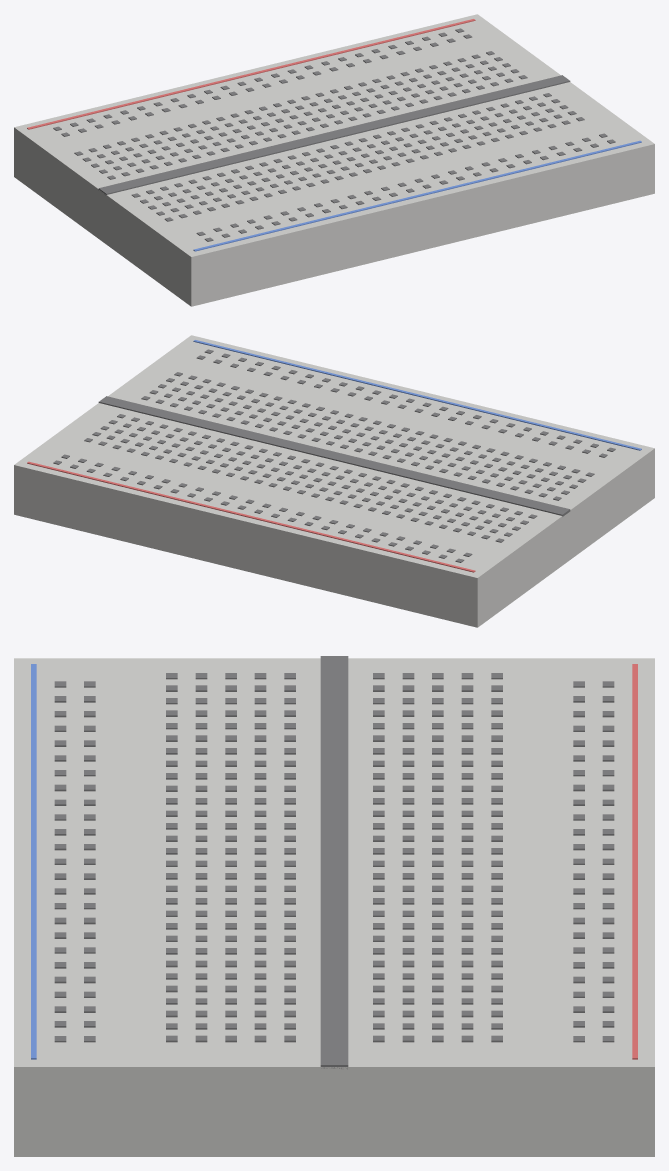
The model's file is breadboard_half.glb.
The picture shows the model from 3 angles, top to bottom: view 1: azimuth 30°, elevation 25°; view 2: azimuth 150°, elevation 25°; view 3: azimuth 270°, elevation 25°; orthographic projection. The views are drawn at different scales.
Parts seen in each view (by area): view 1: breadboard_half_1_bb_white, breadboard_half_2_bb_hole, breadboard_half_103_red_line, breadboard_half_104_blue_line; view 2: breadboard_half_1_bb_white, breadboard_half_2_bb_hole, breadboard_half_104_blue_line, breadboard_half_103_red_line; view 3: breadboard_half_1_bb_white, breadboard_half_2_bb_hole, breadboard_half_103_red_line, breadboard_half_104_blue_line.
Part boxes in pixels (bbox=[...]): breadboard_half_1_bb_white: bbox=[14, 14, 654, 306]; breadboard_half_2_bb_hole: bbox=[98, 75, 570, 195]; breadboard_half_103_red_line: bbox=[27, 19, 475, 129]; breadboard_half_104_blue_line: bbox=[193, 140, 641, 251]; breadboard_half_1_bb_white: bbox=[14, 335, 654, 627]; breadboard_half_2_bb_hole: bbox=[98, 396, 570, 516]; breadboard_half_104_blue_line: bbox=[193, 340, 641, 450]; breadboard_half_103_red_line: bbox=[27, 461, 475, 572]; breadboard_half_1_bb_white: bbox=[14, 658, 654, 1156]; breadboard_half_2_bb_hole: bbox=[320, 656, 348, 1069]; breadboard_half_103_red_line: bbox=[632, 664, 637, 1059]; breadboard_half_104_blue_line: bbox=[31, 664, 36, 1059].
Size of the model in its own units: 83 by 8.7 by 55.
